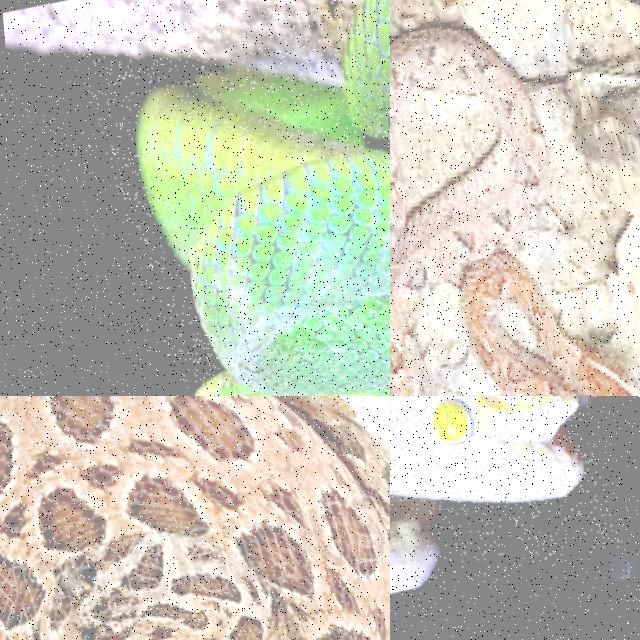Calloselasma rhodostoma: (390, 25, 639, 395)
Daboia siamensis: (0, 396, 389, 639)
Trimeresurus macrops: (138, 0, 389, 395), (390, 396, 580, 497)
snake: (138, 0, 389, 395), (0, 396, 389, 639), (390, 25, 639, 395), (390, 396, 580, 497)
